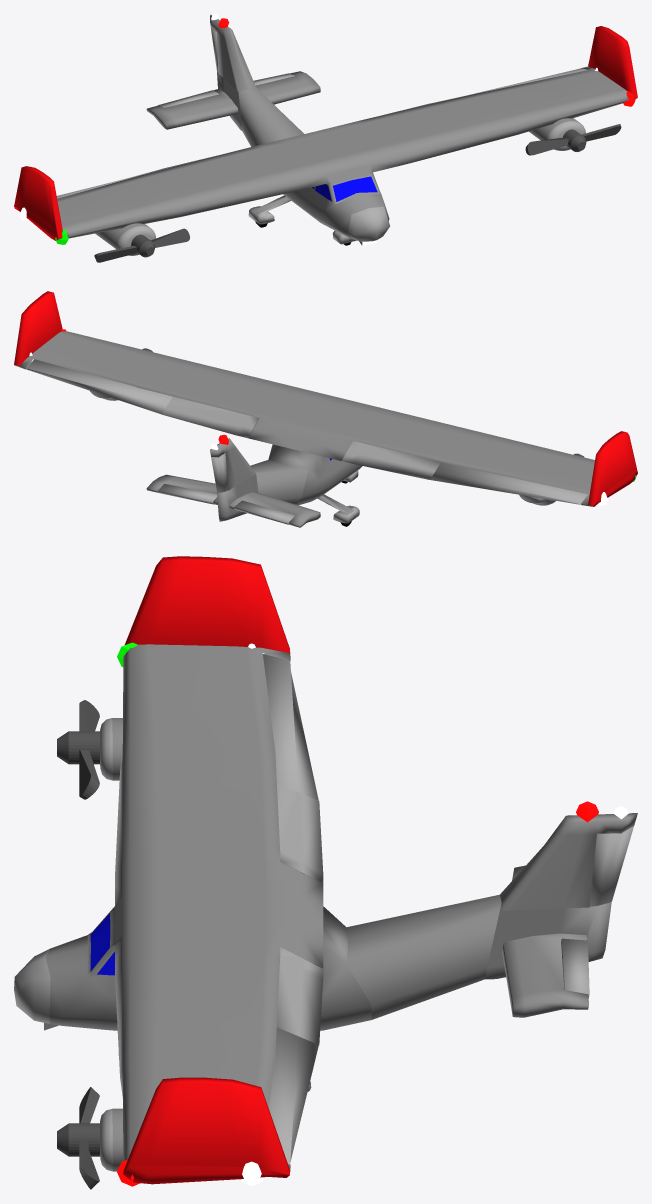
3 renders of one model, top to bottom at view 1: azimuth 30°, elevation 25°; view 2: azimuth 150°, elevation 25°; view 3: azimuth 270°, elevation 25°, orthographic. The views are drawn at different scales.
Parts seen in each view (by area): view 1: wings, body, winglets, horizontal_stabilizer, body_middle, vertical_stabilizer, propeller_right, propeller_left, motor_right, motor_left, landing_gear, elevator (+1 smaller); view 2: wings, winglets, flaps, aileron_right, aileron_left, body, horizontal_stabilizer, body_middle, elevator, vertical_stabilizer, body_tail, landing_gear (+1 smaller); view 3: wings, winglets, body_middle, body, flaps, vertical_stabilizer, horizontal_stabilizer, aileron_right, body_tail, aileron_left, propeller_right, propeller_left (+4 smaller).
Part boxes in pixels (left/top/right/bottom): wings: left=14, top=66, right=636, bottom=240; body: left=283, top=172, right=389, bottom=241; winglets: left=14, top=26, right=637, bottom=238; horizontal_stabilizer: left=146, top=71, right=320, bottom=129; body_middle: left=238, top=87, right=303, bottom=146; vertical_stabilizer: left=210, top=14, right=255, bottom=91; propeller_right: left=94, top=228, right=189, bottom=262; propeller_left: left=525, top=124, right=621, bottom=155; motor_right: left=95, top=223, right=155, bottom=255; motor_left: left=529, top=118, right=585, bottom=150; landing_gear: left=248, top=195, right=356, bottom=244; elevator: left=158, top=73, right=294, bottom=107; wings: left=14, top=331, right=637, bottom=506; winglets: left=14, top=291, right=637, bottom=505; flaps: left=162, top=396, right=440, bottom=479; aileron_right: left=430, top=462, right=587, bottom=504; aileron_left: left=26, top=359, right=172, bottom=414; body: left=268, top=444, right=362, bottom=505; horizontal_stabilizer: left=146, top=474, right=320, bottom=527; body_middle: left=250, top=460, right=308, bottom=504; elevator: left=158, top=483, right=294, bottom=524; vertical_stabilizer: left=210, top=438, right=255, bottom=490; body_tail: left=217, top=474, right=258, bottom=521; landing_gear: left=317, top=470, right=359, bottom=523; wings: left=115, top=644, right=323, bottom=1184; winglets: left=123, top=556, right=290, bottom=1175; body_middle: left=346, top=894, right=501, bottom=1019; body: left=14, top=906, right=371, bottom=1030; flaps: left=277, top=783, right=323, bottom=1044; vertical_stabilizer: left=500, top=813, right=637, bottom=910; horizontal_stabilizer: left=502, top=865, right=588, bottom=1017; aileron_right: left=263, top=654, right=318, bottom=800; body_tail: left=485, top=902, right=611, bottom=979; aileron_left: left=269, top=1027, right=318, bottom=1164; propeller_right: left=57, top=700, right=100, bottom=799; propeller_left: left=57, top=1087, right=100, bottom=1189.
Bounding box in the file's own units: 20.35 × 4.6 × 10.03.
